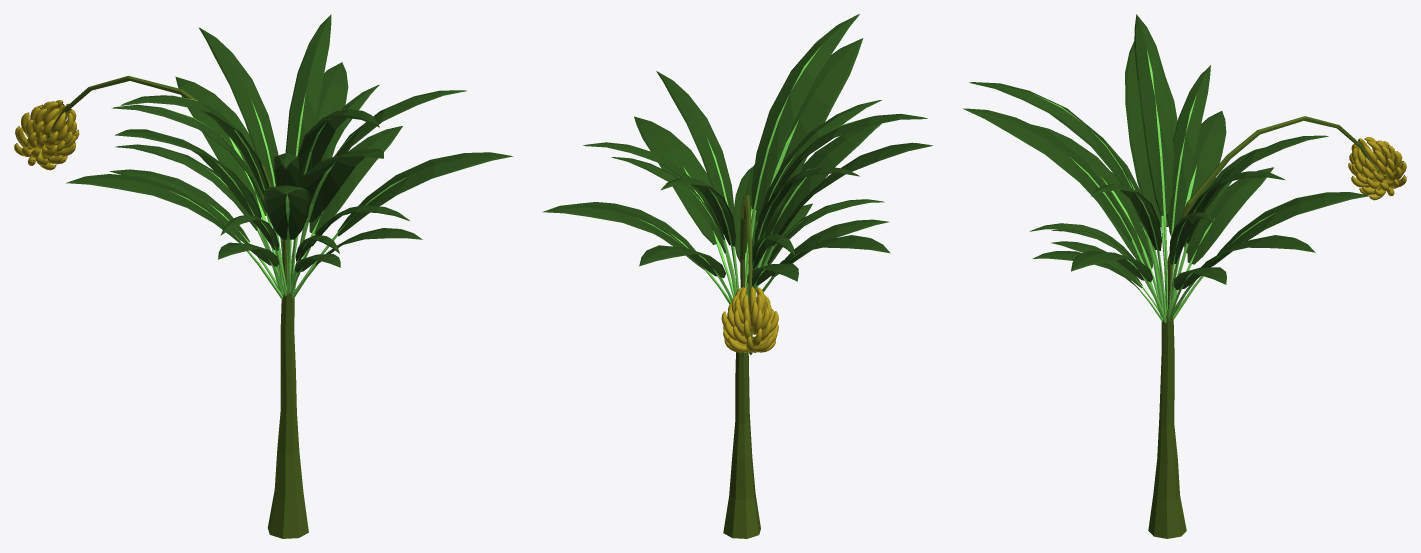
The model's file is SM_BananaTree_001_LOD1.fbx.
3 views of the same model, side by side, from view 1: azimuth 30°, elevation 25°; view 2: azimuth 150°, elevation 25°; view 3: azimuth 270°, elevation 25° (orthographic). The views are drawn at different scales.
Visible parts, largest first — view 1: BananaTree; view 2: BananaTree; view 3: BananaTree.
Boxes of the visible parts, left/top/right/bottom form: BananaTree: left=14, top=14, right=513, bottom=538; BananaTree: left=542, top=14, right=932, bottom=538; BananaTree: left=963, top=14, right=1406, bottom=538.
Size of the model in its own units: 273 by 350 by 320.
